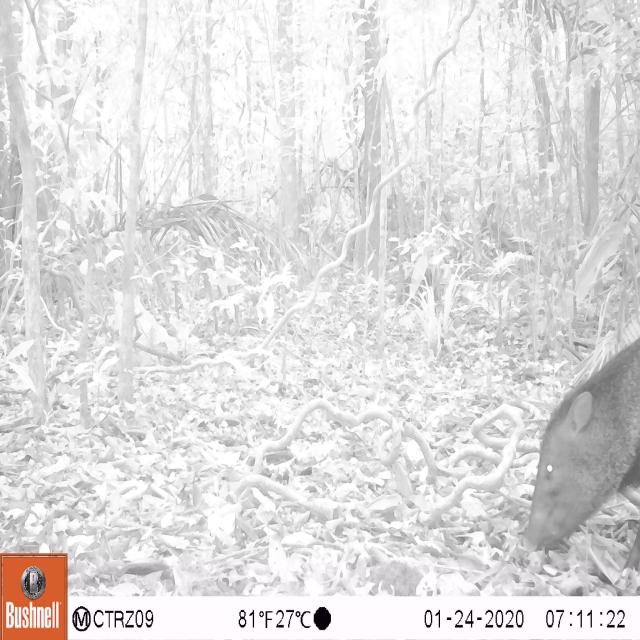Collared Peccary: (525, 330, 640, 558)
